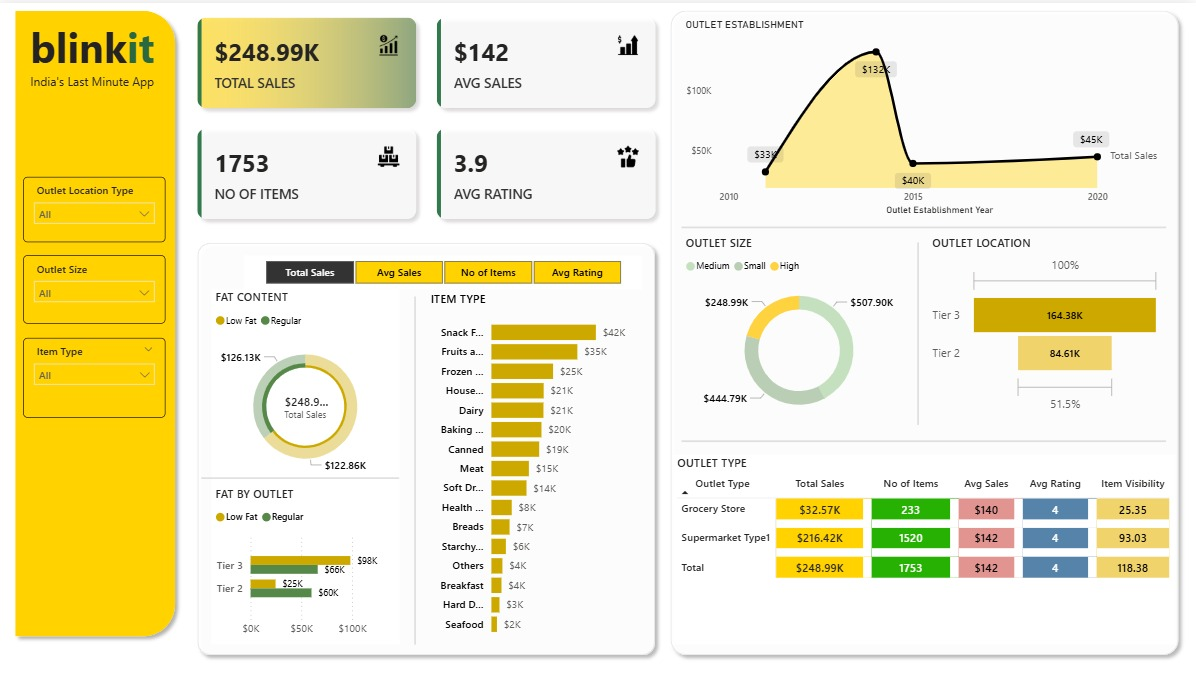

This screenshot's page, from the dashboard's own definition file:
{"tool":"powerbi","page":{"name":"Page 1","canvas":[1400,800],"ordinal":0},"visuals":[{"type":"shape","box":[10,0,205,750],"z":0},{"type":"textbox","box":[32,14,184,144],"z":1000},{"type":"textbox","box":[262.5,0,205,750],"z":2000},{"type":"textbox","box":[415.6,484.4,204.4,86.7],"z":3000},{"type":"cardVisual","fields":{"Data":["BlinkIT Grocery Data.Total Sales","BlinkIT Grocery Data.Avg Sales","BlinkIT Grocery Data.No of Items","BlinkIT Grocery Data.Avg Rating"]},"box":[215.6,0,571.1,271.1],"z":4000},{"type":"shape","box":[222.9,271.4,552.9,500],"z":5000},{"type":"donutChart","title":"FAT CONTENT","fields":{"Y":["BlinkIT Grocery Data.Total Sales"],"Category":["BlinkIT Grocery Data.Item Fat Content"]},"box":[248.3,335,220,230],"z":6000},{"type":"slicer","fields":{"Values":["Metrics.Metrics"]},"box":[286.7,295,465,40],"z":7000},{"type":"cardVisual","fields":{"Data":["BlinkIT Grocery Data.Total Sales"]},"box":[312.9,440,90,57.1],"z":8000},{"type":"clusteredBarChart","title":"FAT BY OUTLET","fields":{"Y":["BlinkIT Grocery Data.Total Sales"],"Category":["BlinkIT Grocery Data.Outlet Location Type"],"Series":["BlinkIT Grocery Data.Item Fat Content"]},"box":[247.5,565,220,185],"z":9000},{"type":"shape","box":[237.1,544.3,231.4,21.4],"z":10000},{"type":"shape","box":[471.4,342.9,30,407.1],"z":11000},{"type":"barChart","title":"ITEM TYPE","fields":{"Y":["BlinkIT Grocery Data.Total Sales"],"Category":["BlinkIT Grocery Data.Item Type"]},"box":[500,336.7,253.3,413.3],"z":12000},{"type":"shape","box":[776.7,0,611.7,771.7],"z":13000},{"type":"lineChart","title":"OUTLET ESTABLISHMENT ","fields":{"Y":["BlinkIT Grocery Data.Total Sales"],"Category":["BlinkIT Grocery Data.Outlet Establishment Year"]},"box":[798.3,18.3,566.7,235],"z":14000},{"type":"shape","box":[798.3,253.3,566.7,18.3],"z":15000},{"type":"donutChart","title":"OUTLET SIZE","fields":{"Y":["BlinkIT Grocery Data.Total Sales"],"Category":["BlinkIT Grocery Data.Outlet Size"]},"box":[798.3,271.7,275,225],"z":16000},{"type":"shape","box":[1066.7,280,16.7,213.3],"z":17000},{"type":"funnel","title":"OUTLET LOCATION","fields":{"Y":["Sum(BlinkIT Grocery Data.Sales)"],"Category":["BlinkIT Grocery Data.Outlet Location Type"]},"box":[1087.3,271.6,276.5,213.7],"z":18000},{"type":"shape","box":[798.3,503.3,566.7,18.3],"z":19000},{"type":"pivotTable","title":"OUTLET TYPE","fields":{"Rows":["BlinkIT Grocery Data.Outlet Type"],"Values":["BlinkIT Grocery Data.Total Sales","BlinkIT Grocery Data.No of Items","BlinkIT Grocery Data.Avg Sales","BlinkIT Grocery Data.Avg Rating","Sum(BlinkIT Grocery Data.Item Visibility)"]},"box":[788.3,528.3,588.3,221.7],"z":20000},{"type":"slicer","fields":{"Values":["BlinkIT Grocery Data.Outlet Location Type"]},"box":[28.8,203.4,166.1,76.3],"z":21000},{"type":"slicer","fields":{"Values":["BlinkIT Grocery Data.Outlet Size"]},"box":[28.8,294.9,166.1,79.7],"z":22000},{"type":"slicer","fields":{"Values":["BlinkIT Grocery Data.Item Type"]},"box":[28.3,391.7,166.7,93.3],"z":23000}]}

Visuals, with their boxes in screenshot pixels (x1, y1, x2, y2), scaled from the page's 1400x800 canvas onto the 1196x685 screenshot:
shape: pyautogui.locateOnScreen(9, 0, 184, 642)
textbox: pyautogui.locateOnScreen(27, 12, 185, 135)
textbox: pyautogui.locateOnScreen(224, 0, 399, 642)
textbox: pyautogui.locateOnScreen(355, 415, 530, 489)
cardVisual - BlinkIT Grocery Data.Total Sales x BlinkIT Grocery Data.Avg Sales: pyautogui.locateOnScreen(184, 0, 672, 232)
shape: pyautogui.locateOnScreen(190, 232, 663, 661)
"FAT CONTENT" donutChart: pyautogui.locateOnScreen(212, 287, 400, 484)
slicer - Metrics.Metrics: pyautogui.locateOnScreen(245, 253, 642, 287)
cardVisual - BlinkIT Grocery Data.Total Sales: pyautogui.locateOnScreen(267, 377, 344, 426)
"FAT BY OUTLET" clusteredBarChart: pyautogui.locateOnScreen(211, 484, 399, 642)
shape: pyautogui.locateOnScreen(203, 466, 400, 484)
shape: pyautogui.locateOnScreen(403, 294, 428, 642)
"ITEM TYPE" barChart: pyautogui.locateOnScreen(427, 288, 644, 642)
shape: pyautogui.locateOnScreen(664, 0, 1186, 661)
"OUTLET ESTABLISHMENT " lineChart: pyautogui.locateOnScreen(682, 16, 1166, 217)
shape: pyautogui.locateOnScreen(682, 217, 1166, 233)
"OUTLET SIZE" donutChart: pyautogui.locateOnScreen(682, 233, 917, 425)
shape: pyautogui.locateOnScreen(911, 240, 926, 422)
"OUTLET LOCATION" funnel: pyautogui.locateOnScreen(929, 233, 1165, 416)
shape: pyautogui.locateOnScreen(682, 431, 1166, 447)
"OUTLET TYPE" pivotTable: pyautogui.locateOnScreen(673, 452, 1176, 642)
slicer - BlinkIT Grocery Data.Outlet Location Type: pyautogui.locateOnScreen(25, 174, 167, 239)
slicer - BlinkIT Grocery Data.Outlet Size: pyautogui.locateOnScreen(25, 253, 167, 321)
slicer - BlinkIT Grocery Data.Item Type: pyautogui.locateOnScreen(24, 335, 167, 415)
